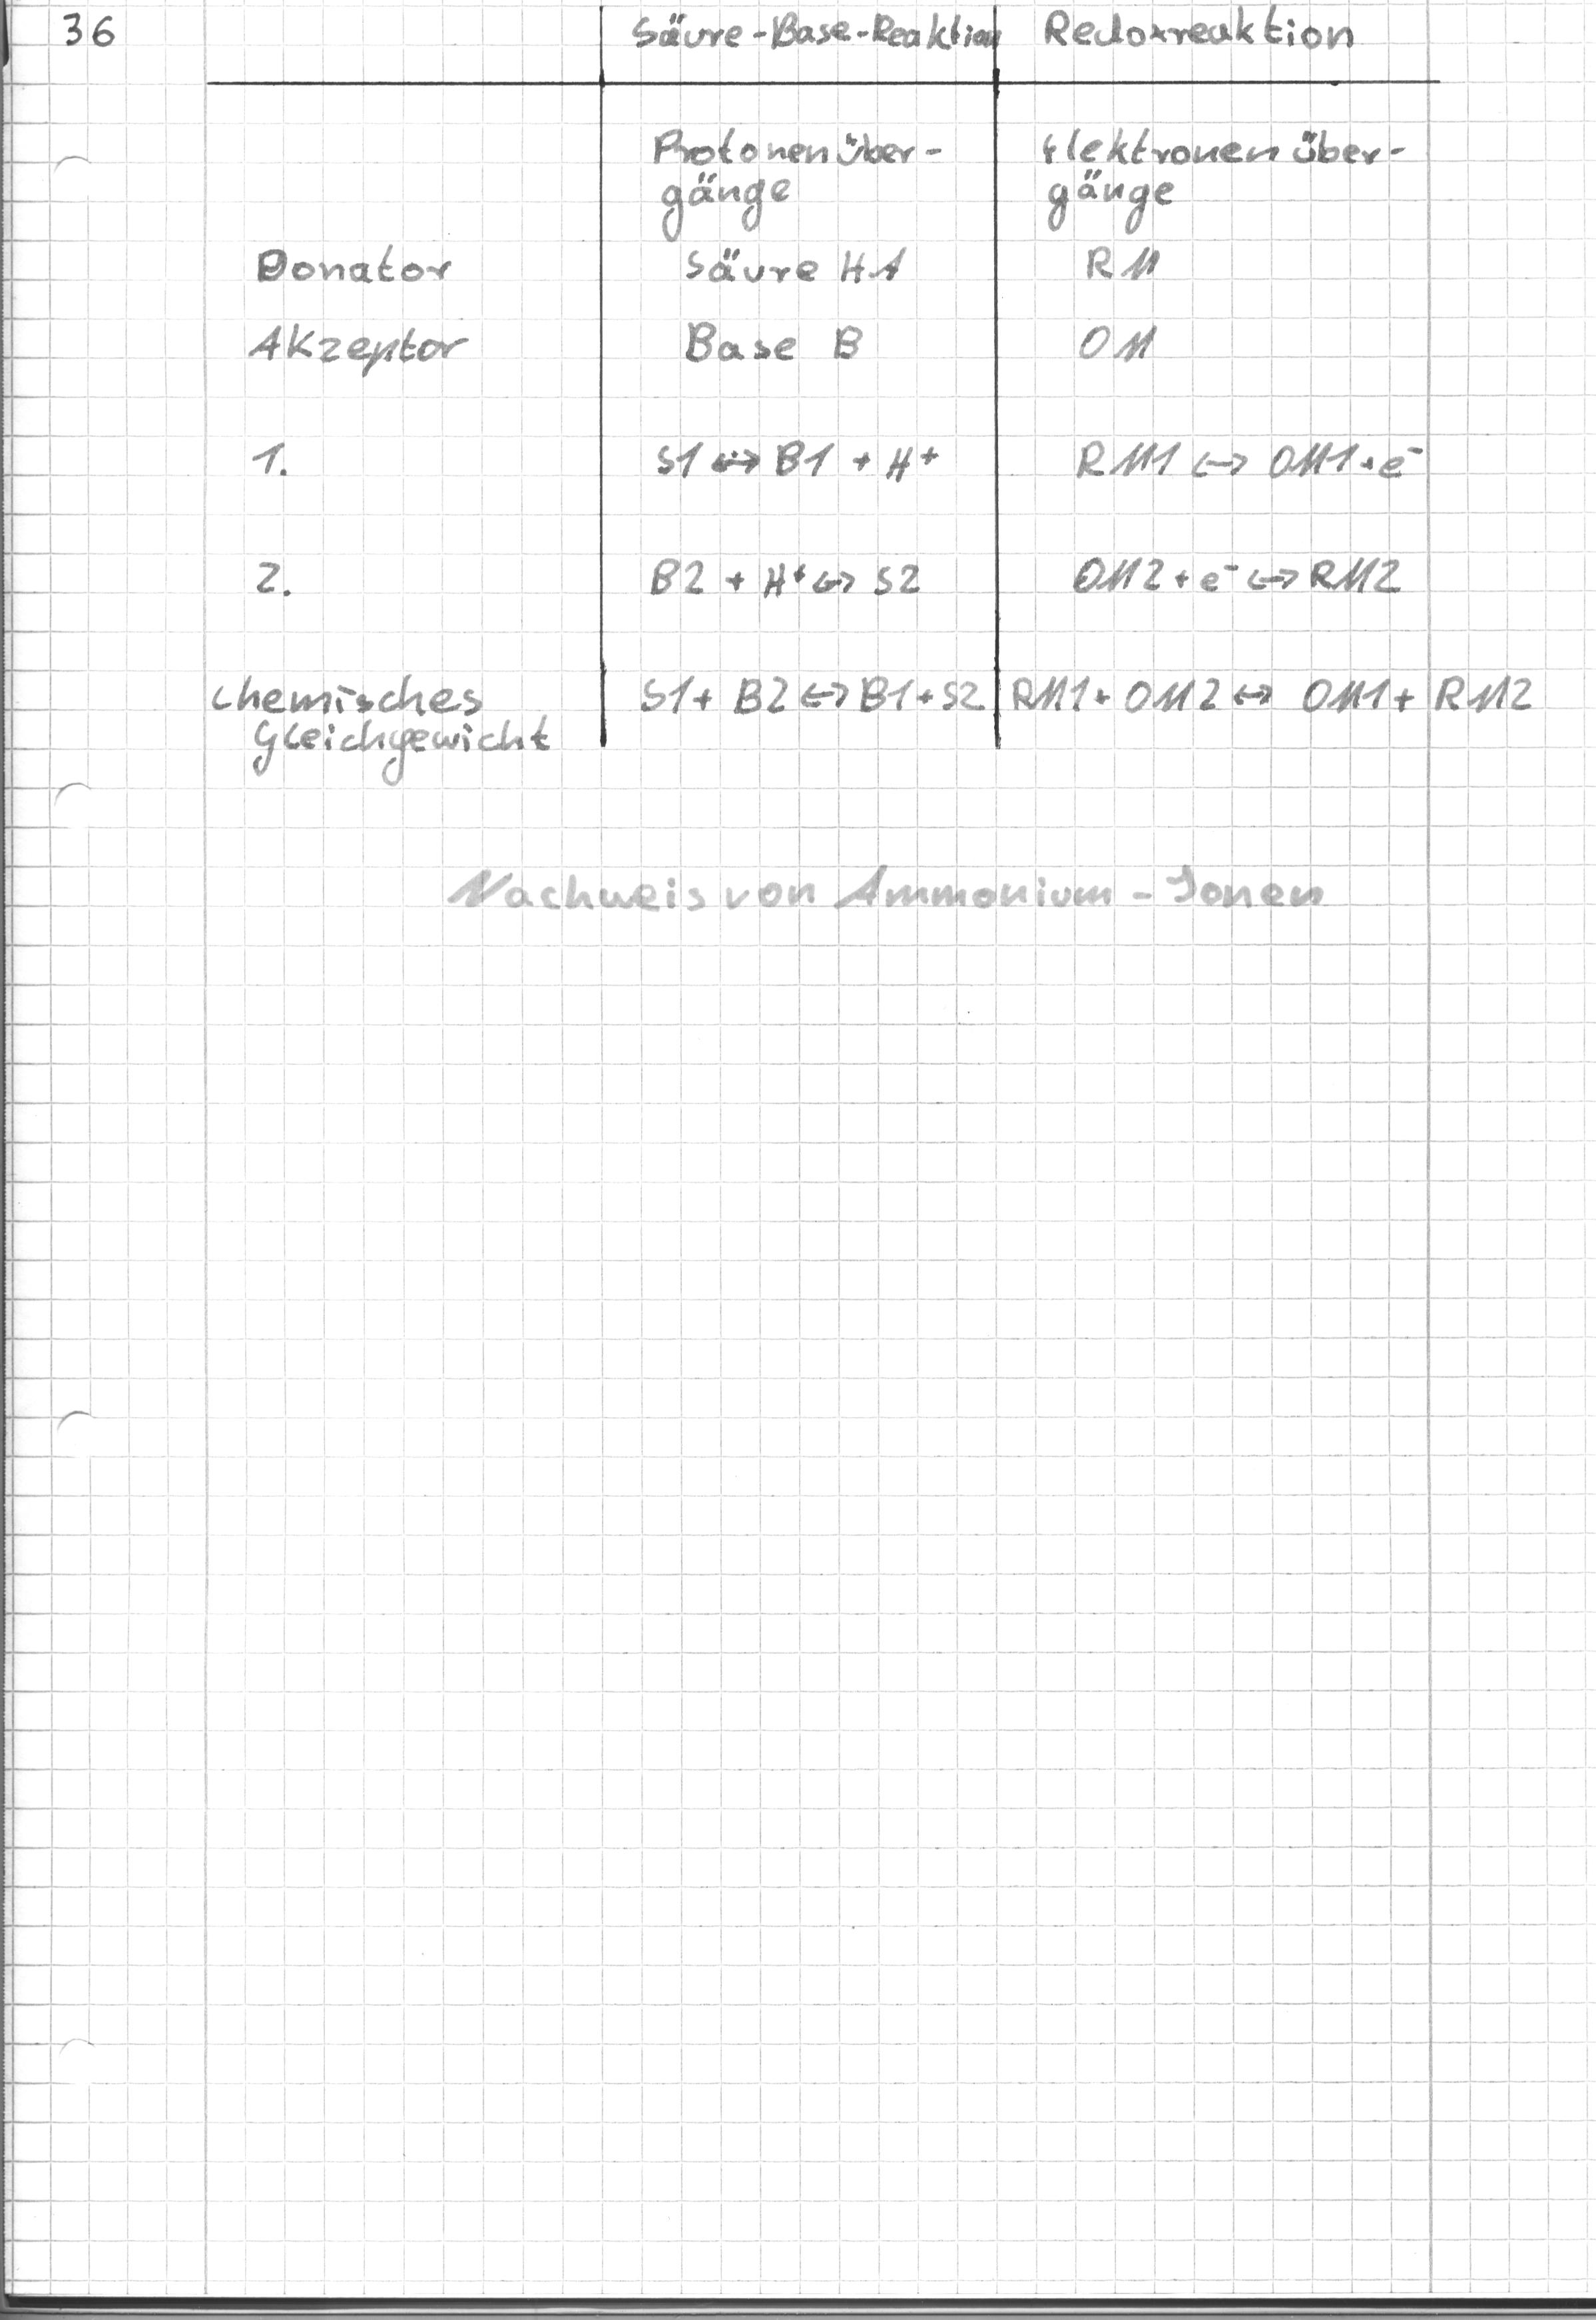word: (628, 661, 1547, 729), (203, 667, 582, 814), (1025, 115, 1421, 238), (625, 114, 961, 246), (623, 1, 1362, 61), (236, 230, 484, 394), (677, 238, 924, 374), (1067, 416, 1433, 506), (641, 536, 943, 629), (1059, 539, 1411, 616), (644, 416, 950, 502), (236, 430, 327, 623), (1063, 232, 1185, 368)
